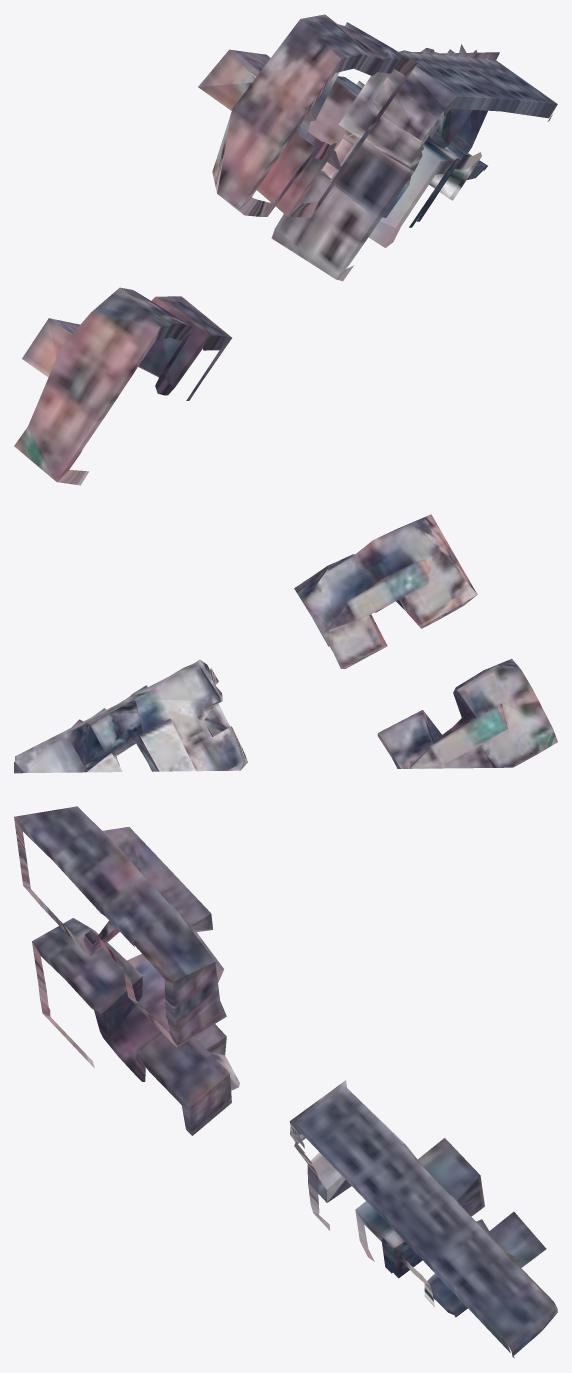
3 views of the same model, one above another, from view 1: azimuth 30°, elevation 25°; view 2: azimuth 150°, elevation 25°; view 3: azimuth 270°, elevation 25° (orthographic). The views are drawn at different scales.
Size of the model in its own units: 102 by 53.2 by 74.19.
Materials: 1 (1 with a texture image).
